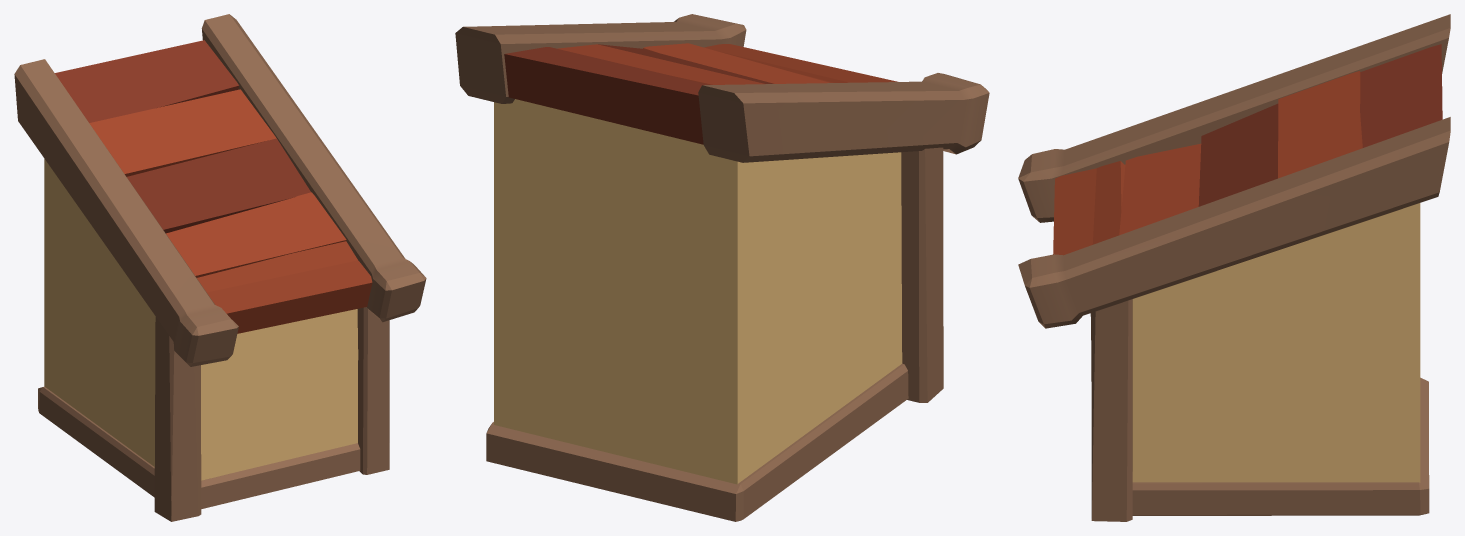
Rendered from House_1Floor_Side_R.fbx.
3 views of the same model, side by side, from view 1: azimuth 30°, elevation 25°; view 2: azimuth 150°, elevation 25°; view 3: azimuth 270°, elevation 25° (orthographic). The views are drawn at different scales.
Visible parts, largest first — view 1: House_1Floor_Side_R; view 2: House_1Floor_Side_R; view 3: House_1Floor_Side_R.
Part boxes in pixels (bbox=[...]): House_1Floor_Side_R: bbox=[14, 14, 426, 521]; House_1Floor_Side_R: bbox=[455, 14, 989, 521]; House_1Floor_Side_R: bbox=[1018, 14, 1450, 521].
Size of the model in its own units: 215 by 300 by 302.
